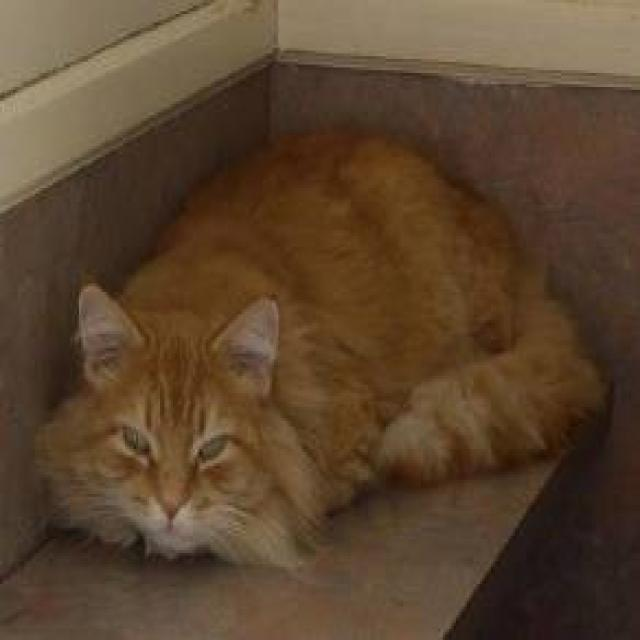cat: (33, 120, 614, 572)
